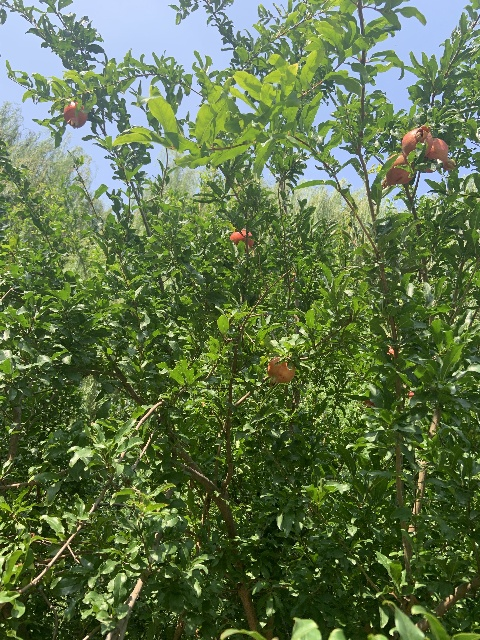ripe: (423, 137, 456, 173), (381, 153, 414, 189), (401, 124, 432, 157), (266, 356, 295, 386), (63, 101, 87, 127), (230, 229, 253, 252)
